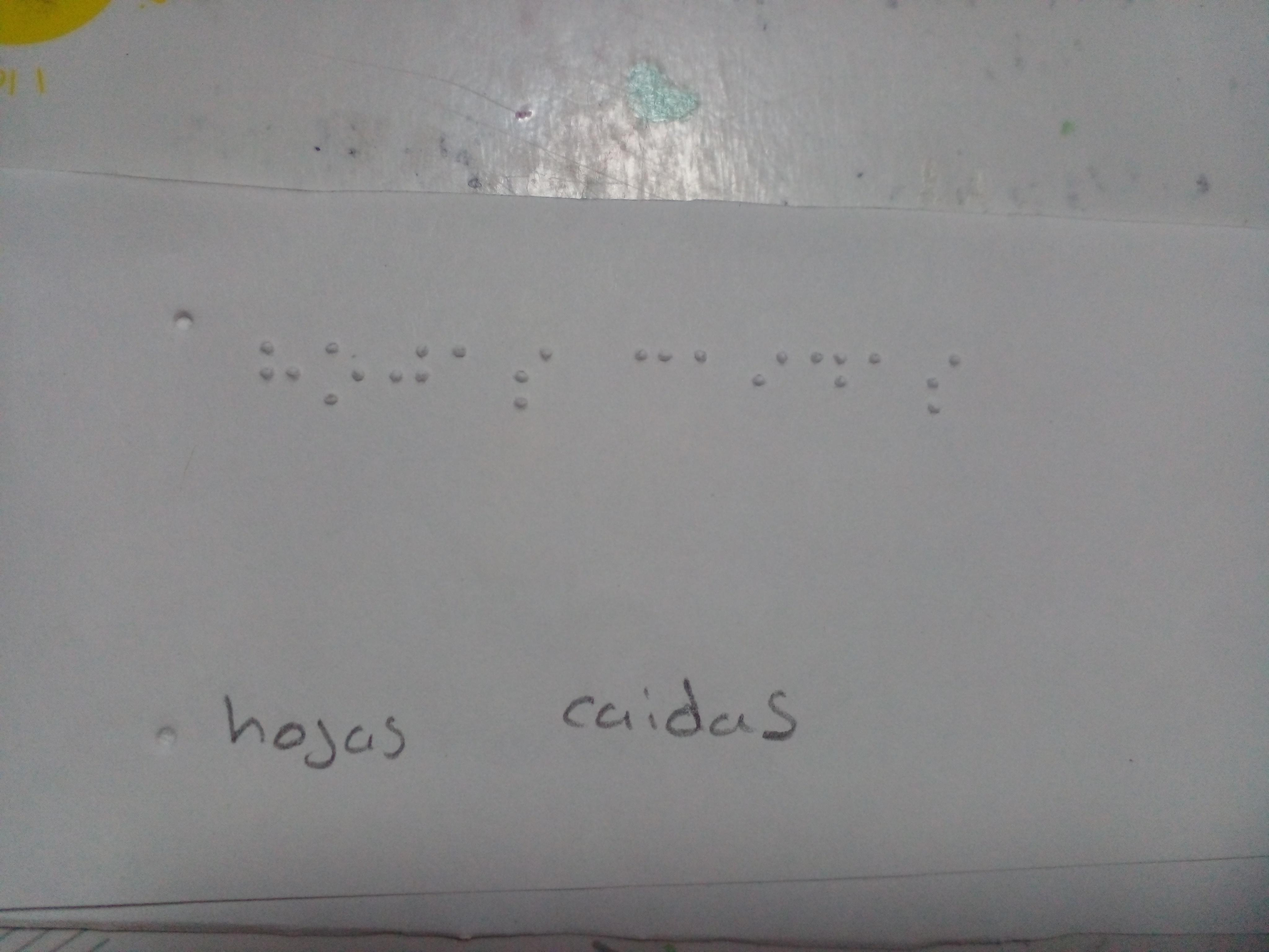a: (440, 327, 474, 384), (685, 336, 719, 383), (860, 339, 889, 381)
c: (626, 333, 683, 400)
d: (812, 338, 850, 406)
h: (246, 325, 308, 401)
i: (745, 342, 796, 403)
j: (384, 328, 435, 406)
o: (318, 324, 375, 415)
s: (499, 335, 569, 420), (911, 344, 967, 420)
